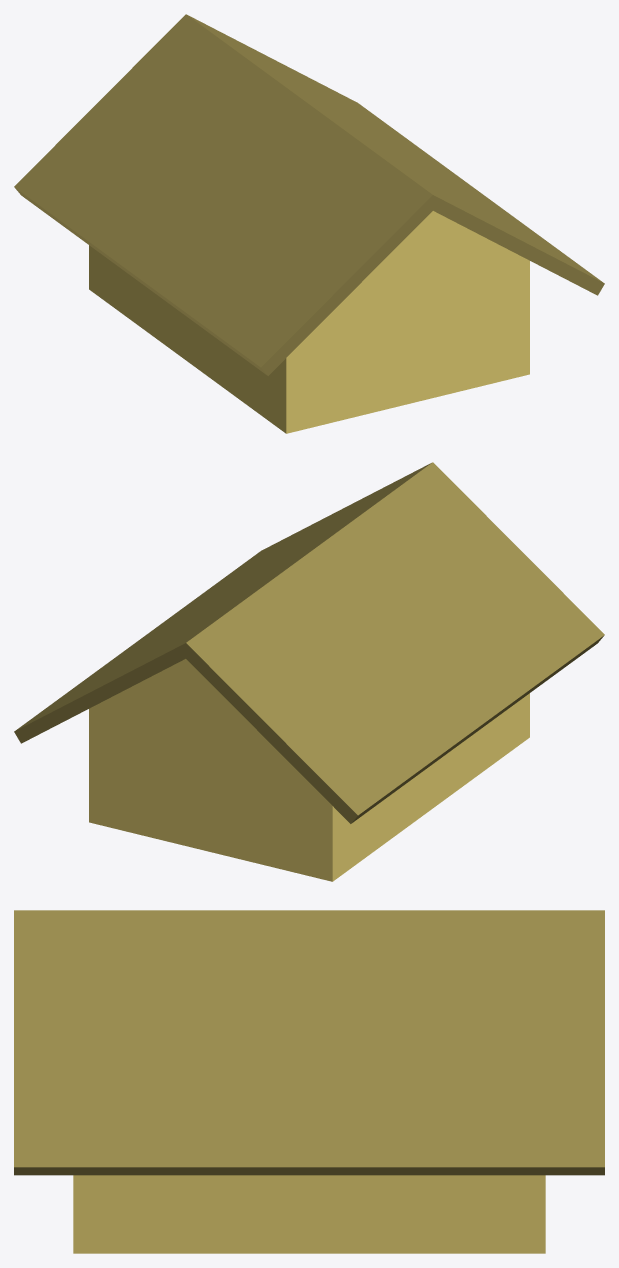
File: result.glb
3 views of the same model, one above another, from view 1: azimuth 30°, elevation 25°; view 2: azimuth 150°, elevation 25°; view 3: azimuth 270°, elevation 25° (orthographic). The views are drawn at different scales.
Visible parts, largest first — view 1: f30b27d1-694f-4ef6-b3e4-6ad818ab7023__undefined (×2), 86ad5425-0847-4b1f-88a7-b600ced8ca2c__undefined; view 2: f30b27d1-694f-4ef6-b3e4-6ad818ab7023__undefined (×2), 86ad5425-0847-4b1f-88a7-b600ced8ca2c__undefined; view 3: f30b27d1-694f-4ef6-b3e4-6ad818ab7023__undefined, 86ad5425-0847-4b1f-88a7-b600ced8ca2c__undefined.
Part boxes in pixels (x1,y1,x2,y2): f30b27d1-694f-4ef6-b3e4-6ad818ab7023__undefined (×2): [14, 14, 604, 375]; 86ad5425-0847-4b1f-88a7-b600ced8ca2c__undefined: [89, 211, 529, 433]; f30b27d1-694f-4ef6-b3e4-6ad818ab7023__undefined (×2): [14, 462, 604, 823]; 86ad5425-0847-4b1f-88a7-b600ced8ca2c__undefined: [89, 659, 529, 881]; f30b27d1-694f-4ef6-b3e4-6ad818ab7023__undefined: [14, 910, 604, 1175]; 86ad5425-0847-4b1f-88a7-b600ced8ca2c__undefined: [73, 1175, 545, 1253].
Size of the model in its own units: 704 by 445 by 876.
